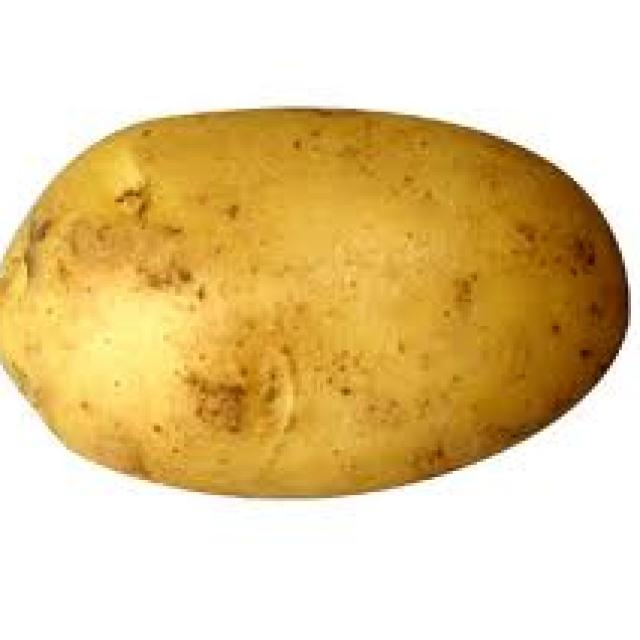potato: (0, 94, 634, 495)
